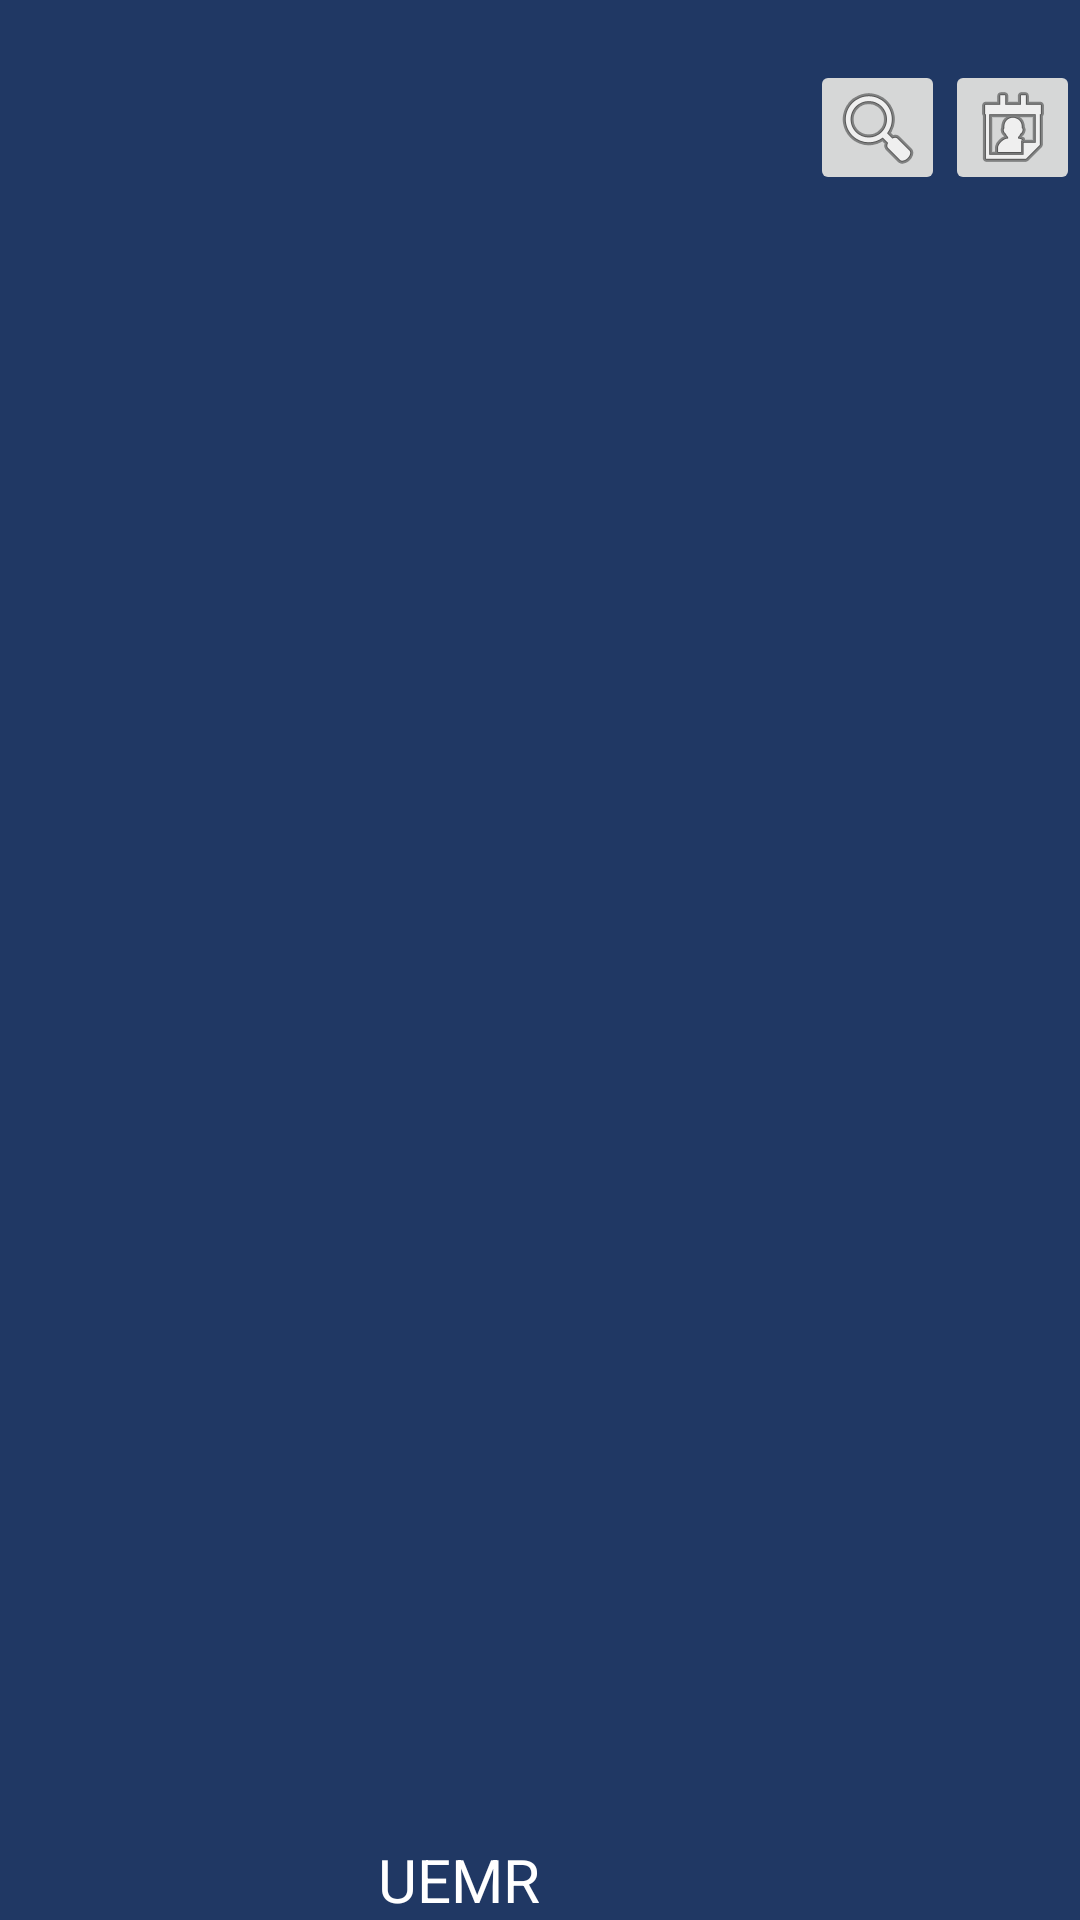

Icons on this 1080 x 1920 Android screen, each with the point to tap as point (x, y):
calendar: point (1012, 127)
search: point (877, 127)
